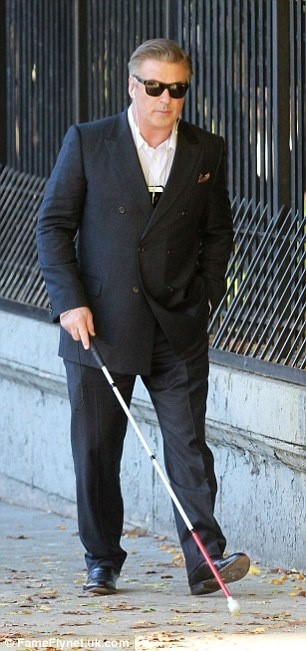face_no_mask: (128, 45, 190, 128)
